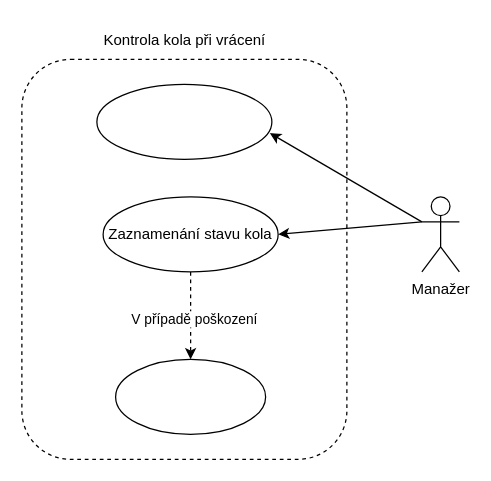
The diagram is 491 pixels wide and 481 high, and some of its shapes have lost their labels. Each missing label, with the centre of its shape:
"Kontrola komponent kola" goes at point 184,121.
"Vytvoření požadavek na servis" goes at point 190,396.
